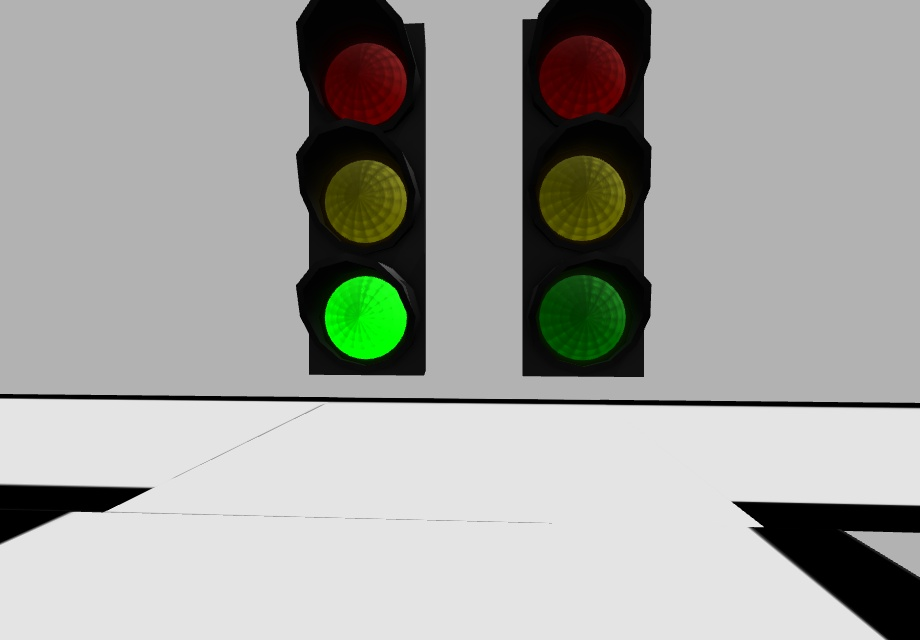green_off: (532, 267, 634, 372)
green_on: (312, 264, 420, 365)
